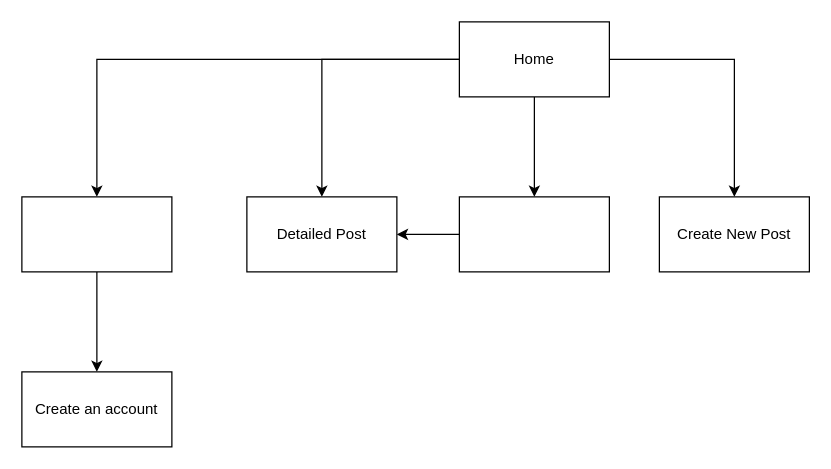
The diagram is 831 pixels wide and 469 high, and some of its shapes have lost their labels. The shapes that lost their labels are listed below. From the top down, each one's centre as x and y in pixels, then its label:
At pixel 96 234: "Login".
At pixel 533 234: "Profile".
